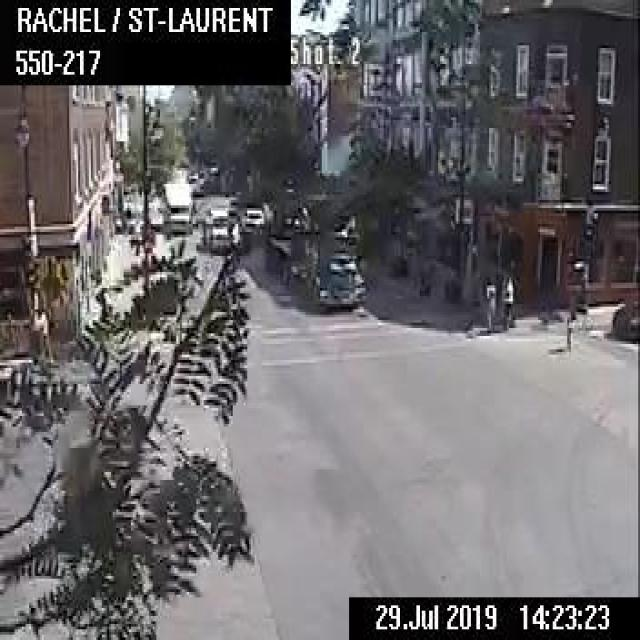pedestrian: (480, 283, 495, 333), (500, 274, 513, 330)
vehicle: (312, 249, 366, 307), (200, 204, 240, 251), (160, 179, 190, 235), (609, 296, 638, 344), (242, 206, 264, 232)
